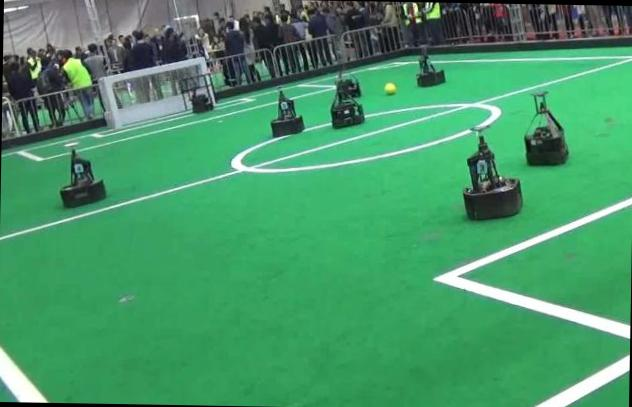ball: (383, 81, 396, 94)
goal: (101, 76, 121, 129)
robot: (462, 135, 521, 218), (524, 91, 567, 164), (59, 149, 104, 206), (330, 78, 364, 127), (270, 90, 303, 136), (179, 73, 214, 113), (417, 45, 444, 85)
